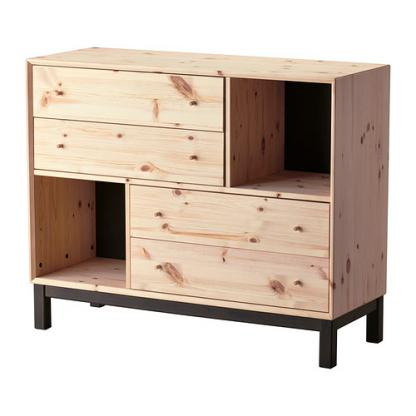Cabinet: (23, 40, 392, 370)
